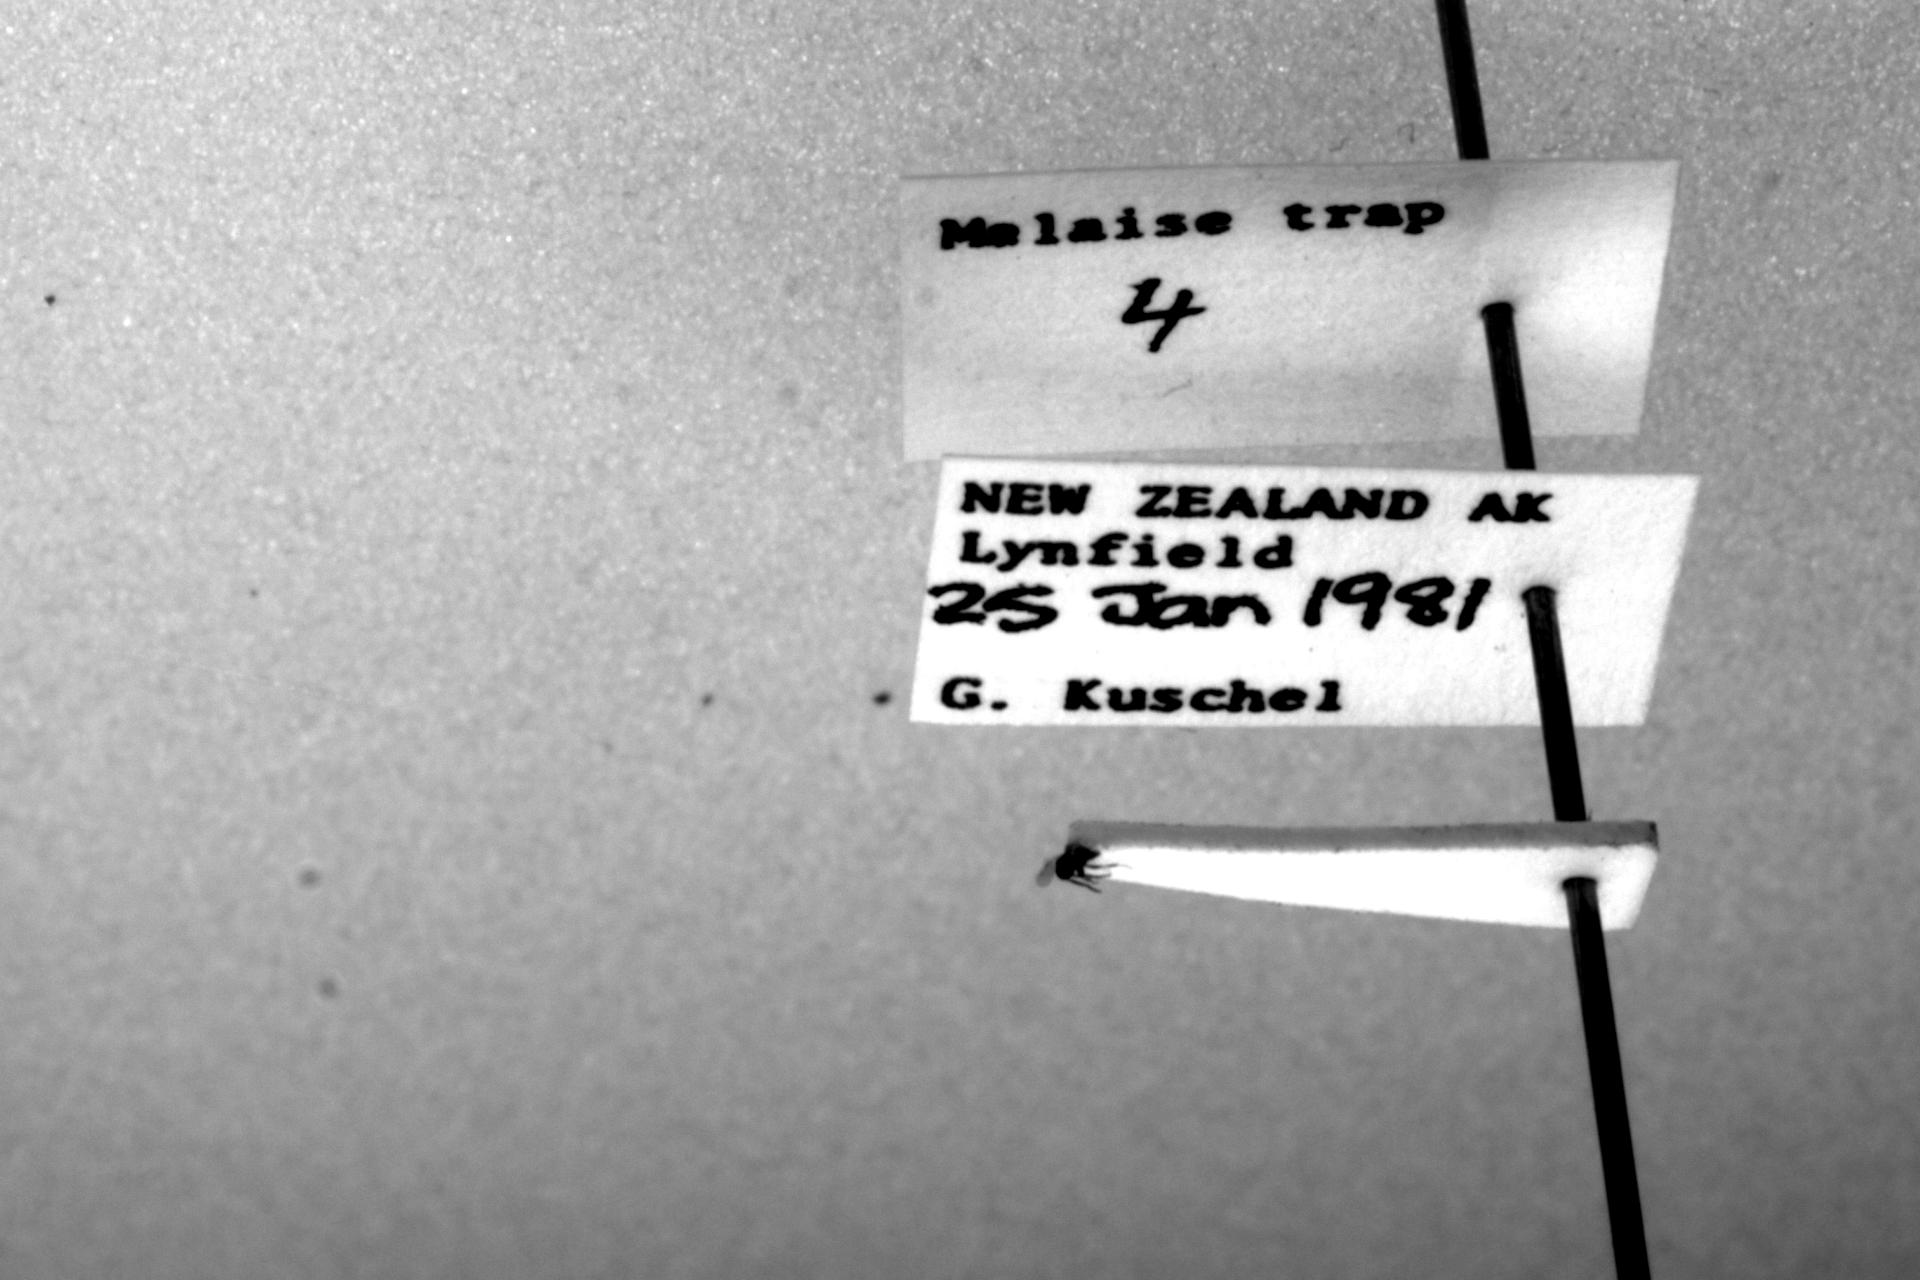mixed_label: (900, 161, 1680, 461), (913, 463, 1700, 729)
